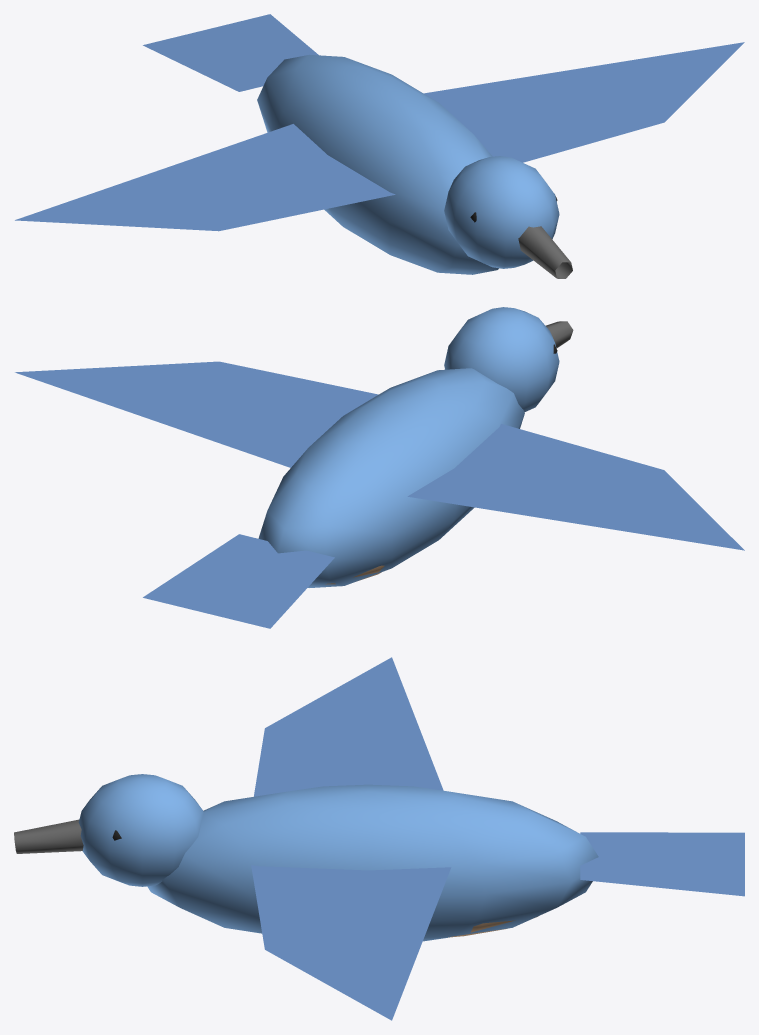
File: Bird_Bluebird.glb
3 views of the same model, one above another, from view 1: azimuth 30°, elevation 25°; view 2: azimuth 150°, elevation 25°; view 3: azimuth 270°, elevation 25° (orthographic).
Parts seen in each view (by area): view 1: Bird_Bluebird, WingL, WingR; view 2: Bird_Bluebird, WingL, WingR; view 3: Bird_Bluebird, WingR, WingL.
Boxes of the visible parts, <box> form: Bird_Bluebird: <box>143,14,572,278</box>; WingL: <box>15,124,395,231</box>; WingR: <box>424,42,744,162</box>; Bird_Bluebird: <box>143,307,573,628</box>; WingL: <box>407,424,744,550</box>; WingR: <box>15,361,378,467</box>; Bird_Bluebird: <box>14,774,744,941</box>; WingR: <box>251,865,451,1020</box>; WingL: <box>254,657,443,796</box>.
Size of the model in its own units: 0.3108 by 0.0629 by 0.264.
